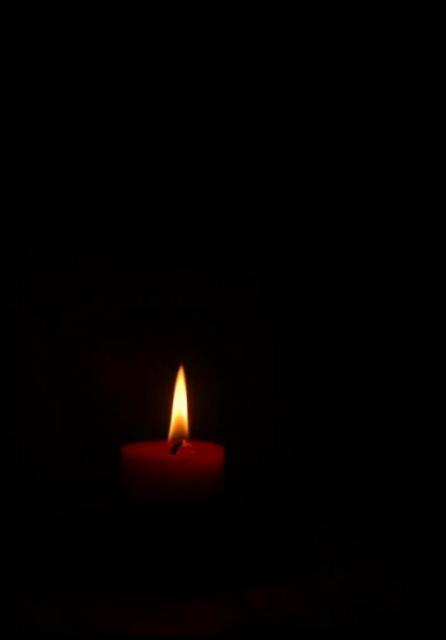fire: (164, 367, 187, 441)
